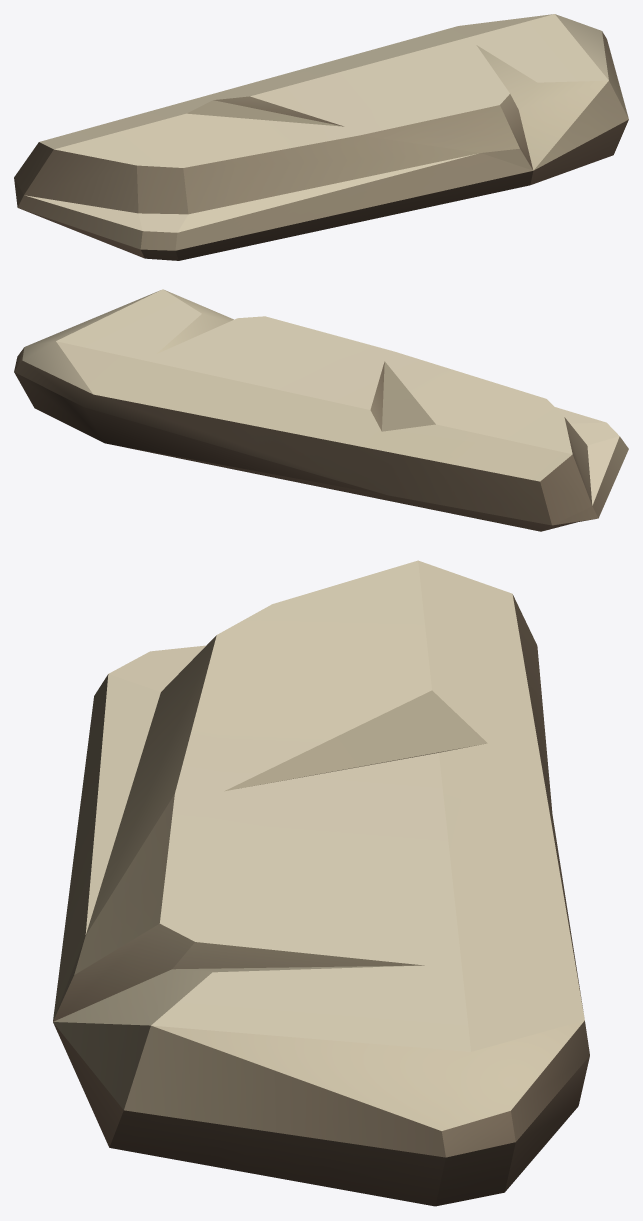
File: Stone_Step_3B.fbx
3 renders of one model, top to bottom at view 1: azimuth 30°, elevation 25°; view 2: azimuth 150°, elevation 25°; view 3: azimuth 270°, elevation 25°, orthographic. The views are drawn at different scales.
Parts seen in each view (by area): view 1: Stone_Step_3B; view 2: Stone_Step_3B; view 3: Stone_Step_3B.
Part boxes in pixels (box(x1,y1,x2,y2)): Stone_Step_3B: box(14, 14, 628, 260); Stone_Step_3B: box(14, 289, 628, 531); Stone_Step_3B: box(53, 560, 589, 1206).
Size of the model in its own units: 2.78 by 0.2933 by 1.12.
